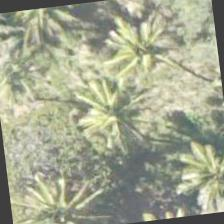Kelapa_Sawit: (55, 60, 156, 160), (85, 3, 185, 103), (6, 160, 103, 223), (169, 129, 223, 217)
